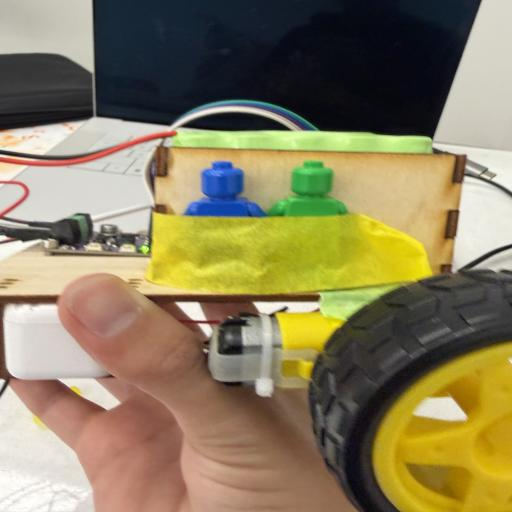Blue-Lego: (184, 161, 266, 217)
Green-Lego: (283, 160, 348, 217)
